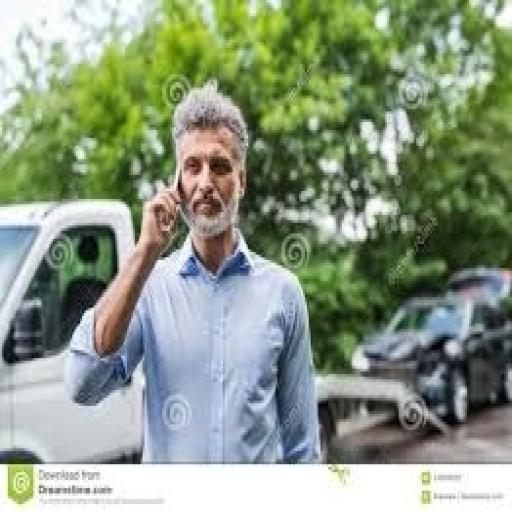calling: (62, 80, 322, 464)
